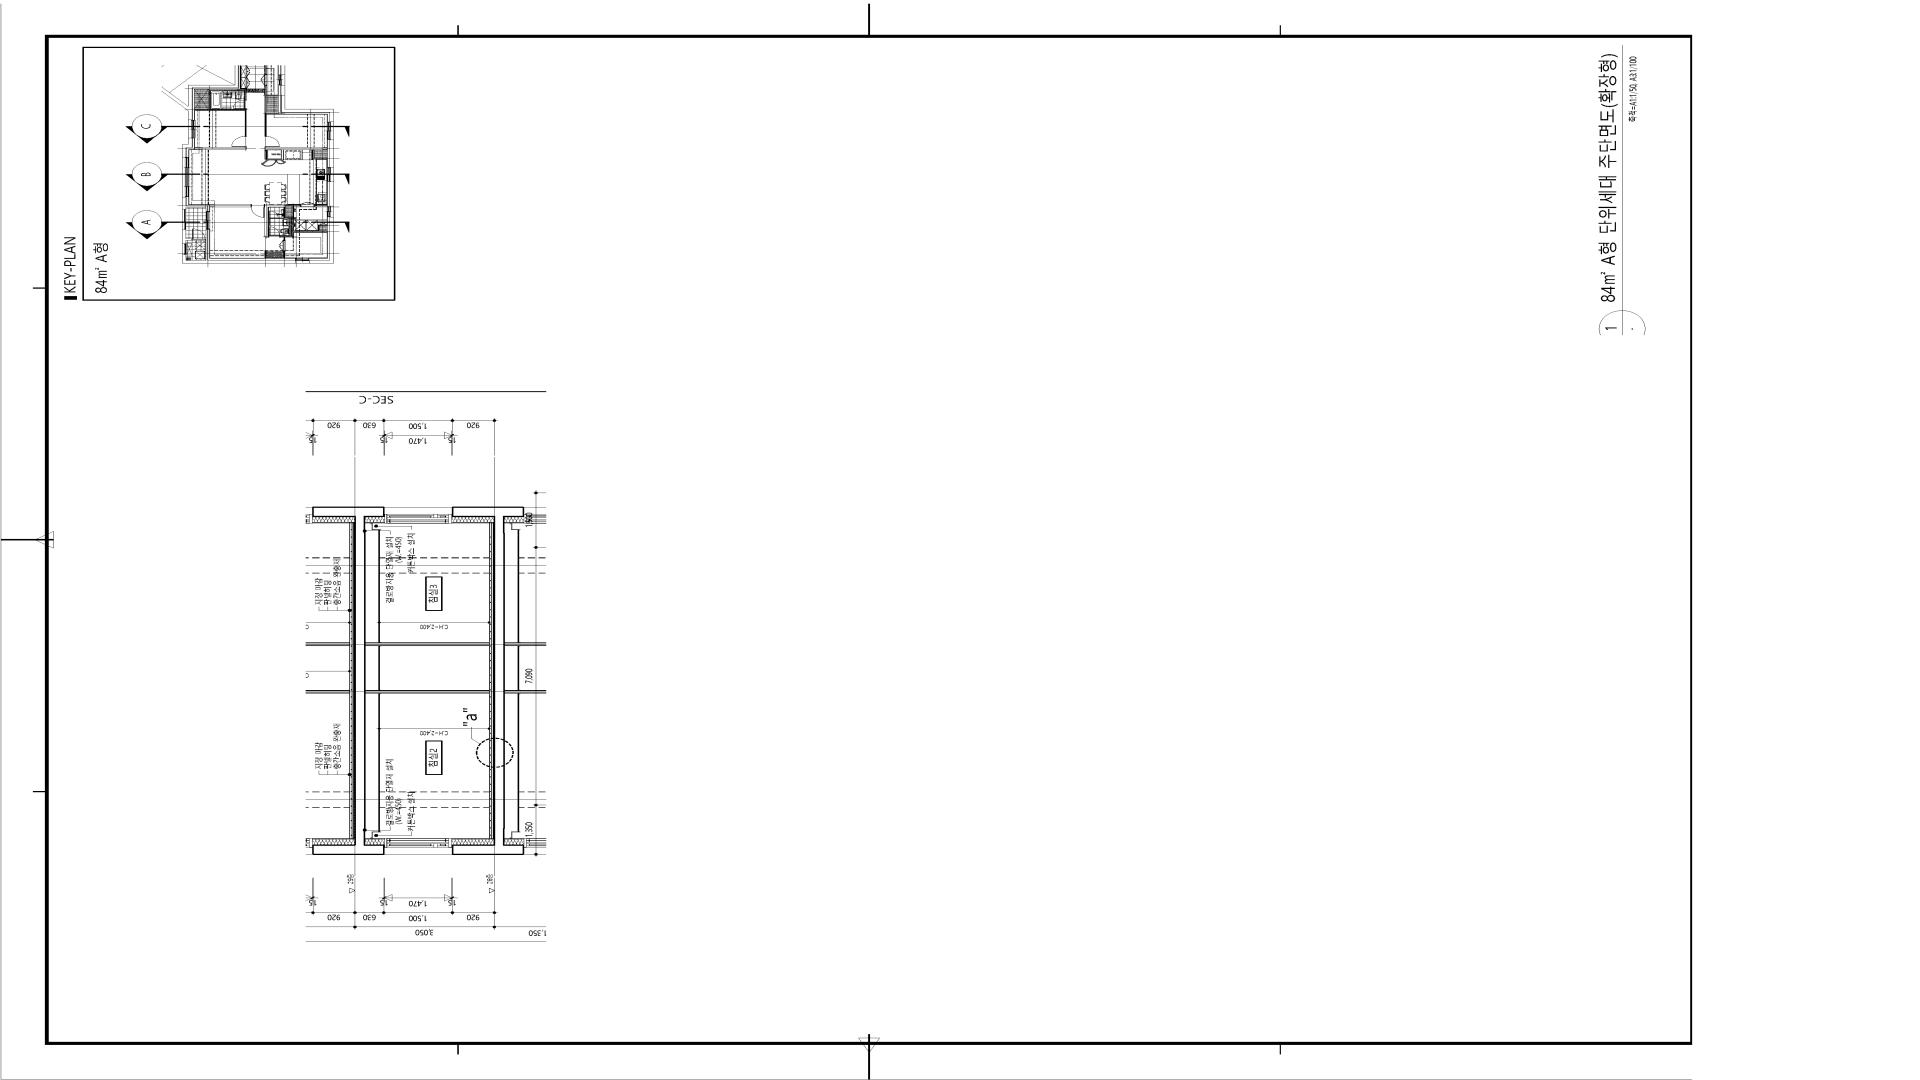background: (0, 0, 1920, 1080)
wall: (452, 506, 505, 855), (355, 506, 385, 855), (365, 642, 489, 646), (365, 690, 489, 694)
window: (384, 839, 452, 855), (385, 508, 452, 524)
